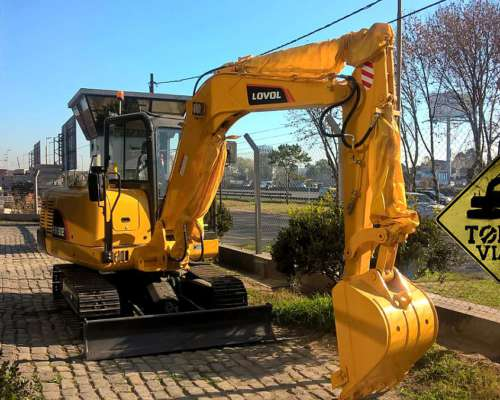backhoe: (41, 20, 443, 399)
